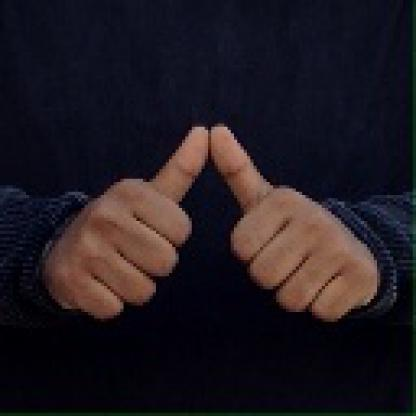A: (56, 123, 366, 337)
